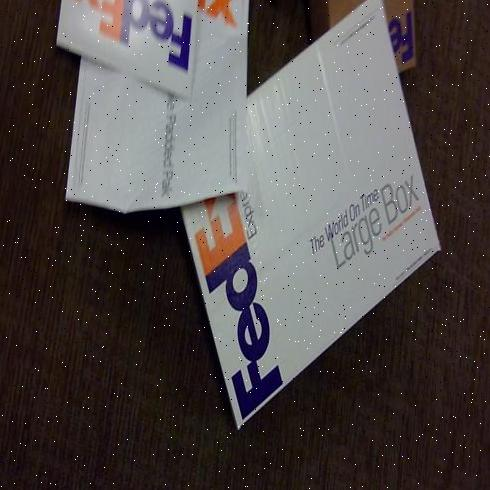Amazon: (179, 0, 447, 423), (55, 0, 207, 97)
